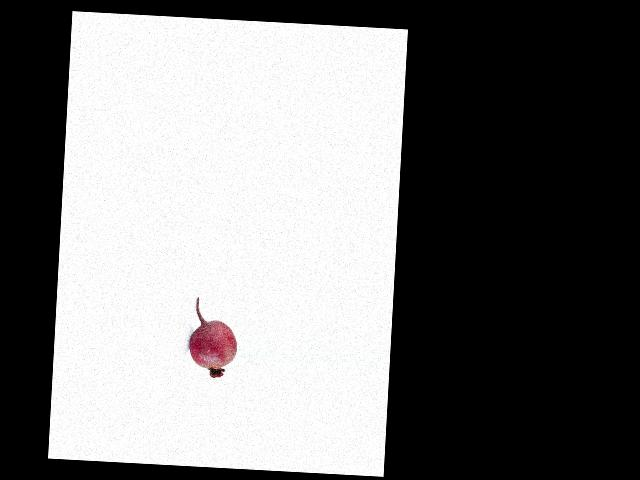beet: (187, 296, 239, 378)
